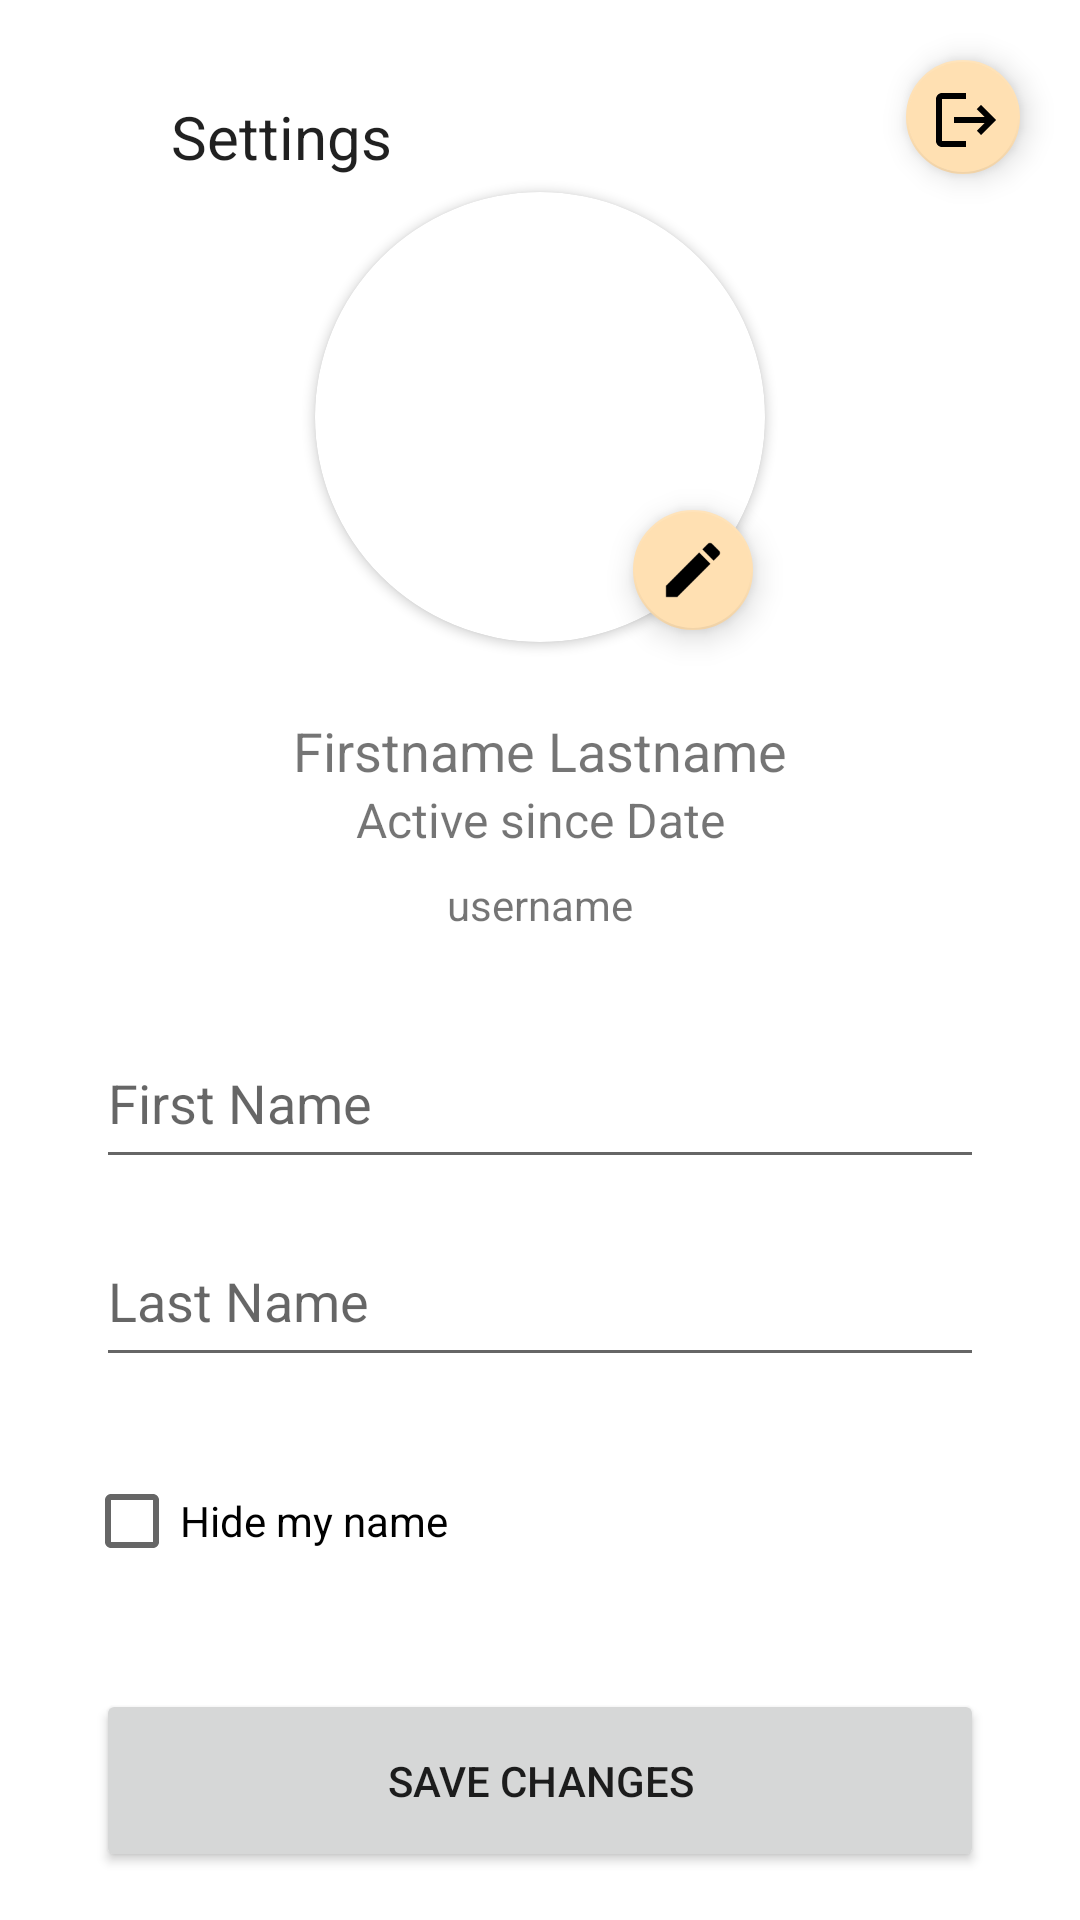

Screen size 1080px x 1920px. Icon name, then its center in pixels as point (x, y):
edit: point (687, 565)
